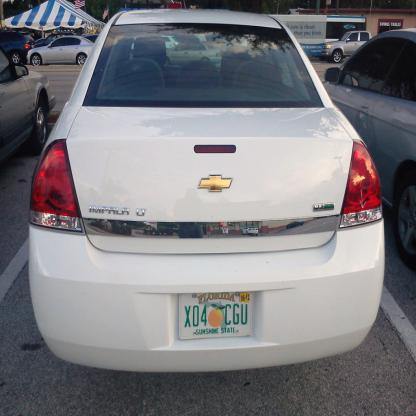Car: (0, 30, 416, 274)
